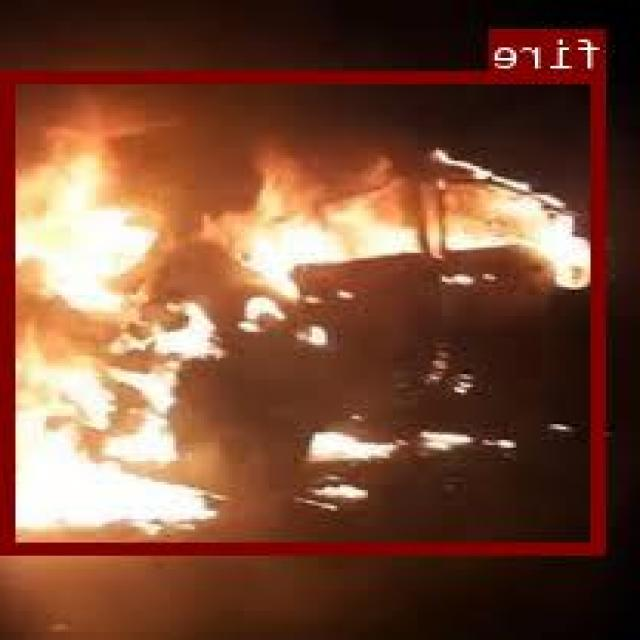fire: (6, 70, 608, 550)
